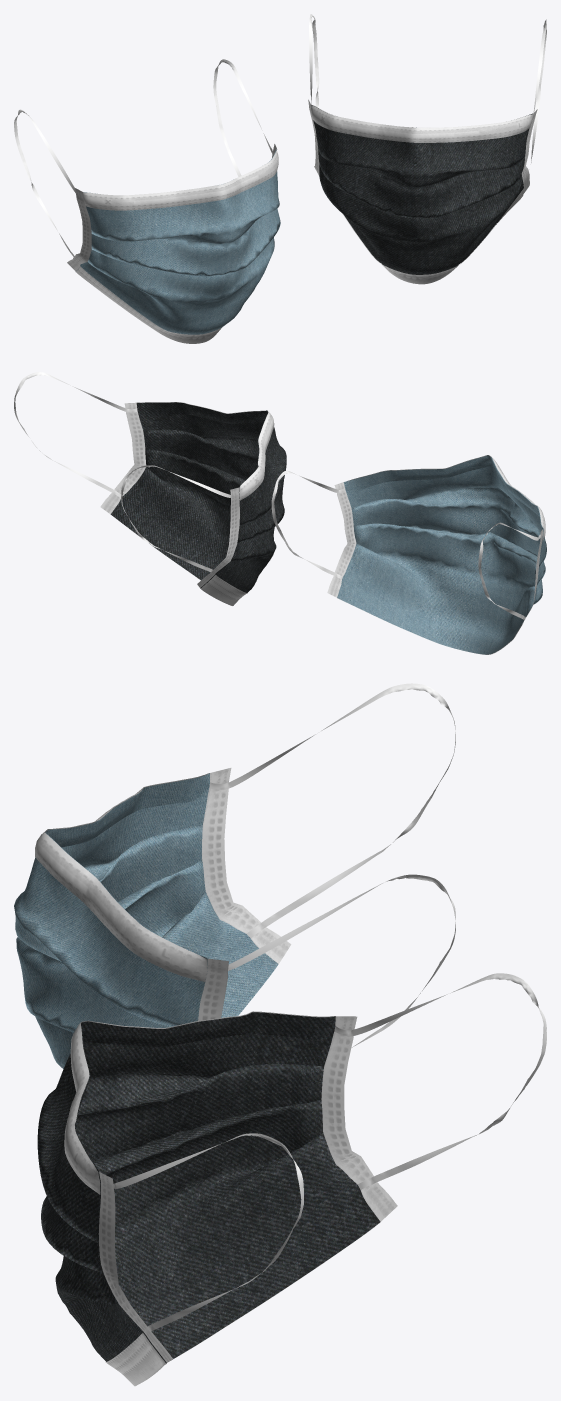
3 renders of one model, top to bottom at view 1: azimuth 30°, elevation 25°; view 2: azimuth 150°, elevation 25°; view 3: azimuth 270°, elevation 25°, orthographic. The views are drawn at different scales.
Visible parts, largest first — view 1: MASK2_Coatweight_wool_3, MASK1_Lightweight_Denim_2; view 2: MASK1_Lightweight_Denim_2, MASK2_Coatweight_wool_3; view 3: MASK2_Coatweight_wool_3, MASK1_Lightweight_Denim_2.
Part boxes in pixels (x1,y1,x2,y2): MASK2_Coatweight_wool_3: [308, 14, 546, 284]; MASK1_Lightweight_Denim_2: [14, 59, 280, 343]; MASK1_Lightweight_Denim_2: [271, 455, 546, 654]; MASK2_Coatweight_wool_3: [14, 372, 286, 605]; MASK2_Coatweight_wool_3: [37, 973, 546, 1386]; MASK1_Lightweight_Denim_2: [14, 683, 455, 1068].
Bounding box in the file's own units: 37.79 × 14.81 × 18.48.
10 materials, 8 textured.
